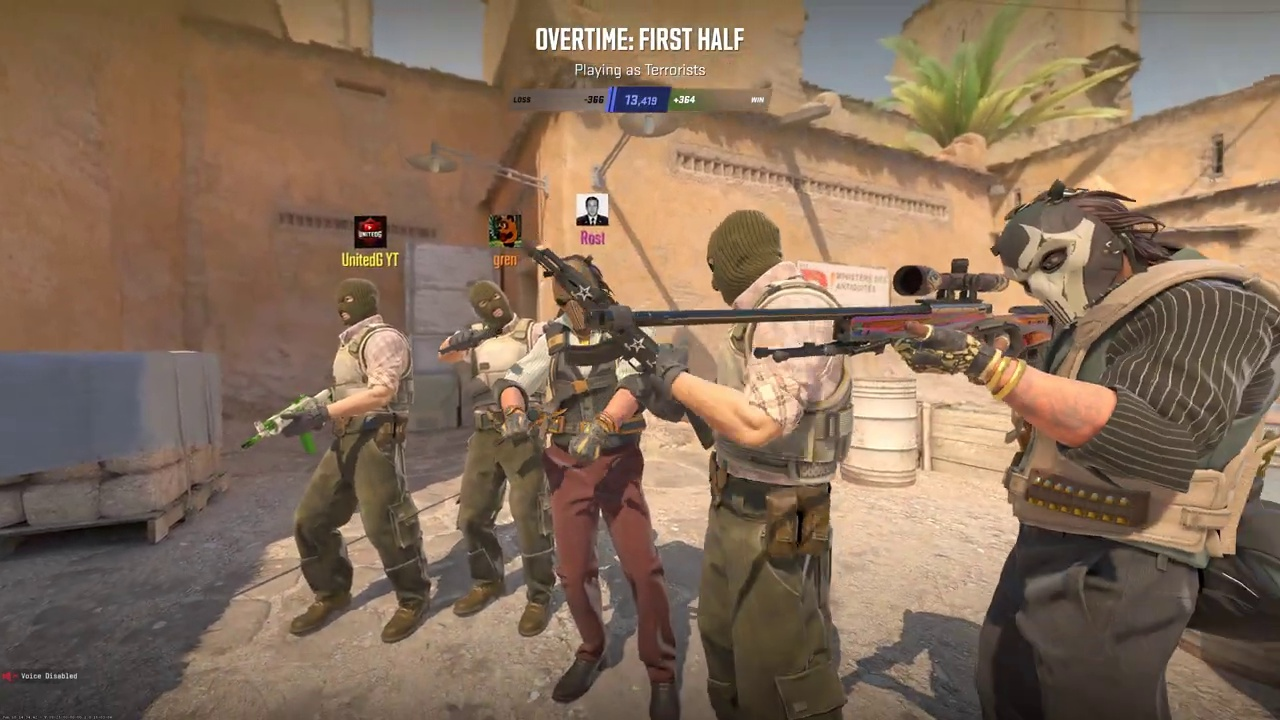Terrorist: (963, 187, 1257, 717), (692, 211, 861, 720), (540, 254, 685, 719), (280, 276, 433, 634), (440, 278, 561, 635)
